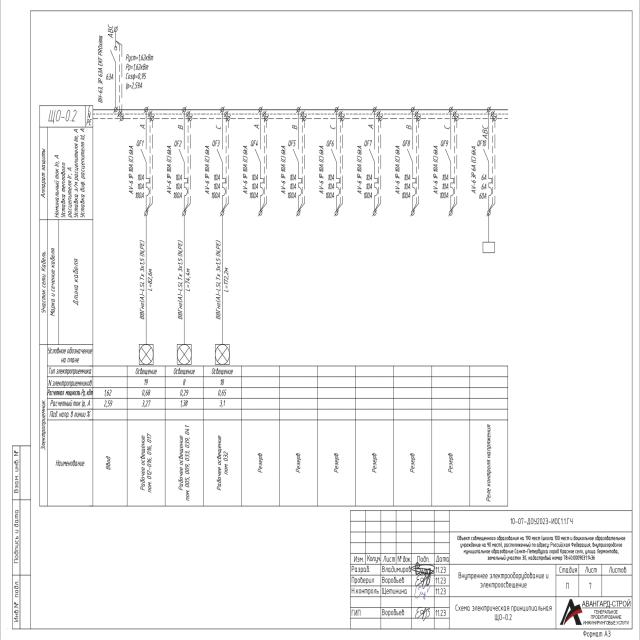-: (96, 34, 104, 102), (47, 108, 78, 124), (280, 144, 288, 197), (432, 144, 440, 197), (394, 144, 402, 196), (203, 144, 210, 198), (242, 144, 249, 198), (166, 144, 173, 197), (318, 144, 325, 197), (128, 144, 135, 196), (470, 144, 477, 196), (356, 144, 362, 197), (107, 22, 113, 39), (106, 71, 114, 82)
QF: (216, 144, 228, 207), (444, 140, 456, 202), (292, 143, 304, 205), (140, 144, 151, 207), (482, 141, 493, 203), (407, 142, 418, 204), (368, 143, 379, 205), (254, 143, 265, 205), (178, 143, 188, 205), (330, 144, 340, 206)
QS: (110, 46, 118, 64)
